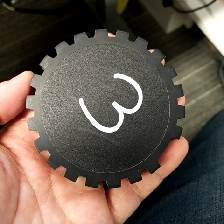gear: (24, 27, 186, 190)
missing: (147, 123, 183, 175)
